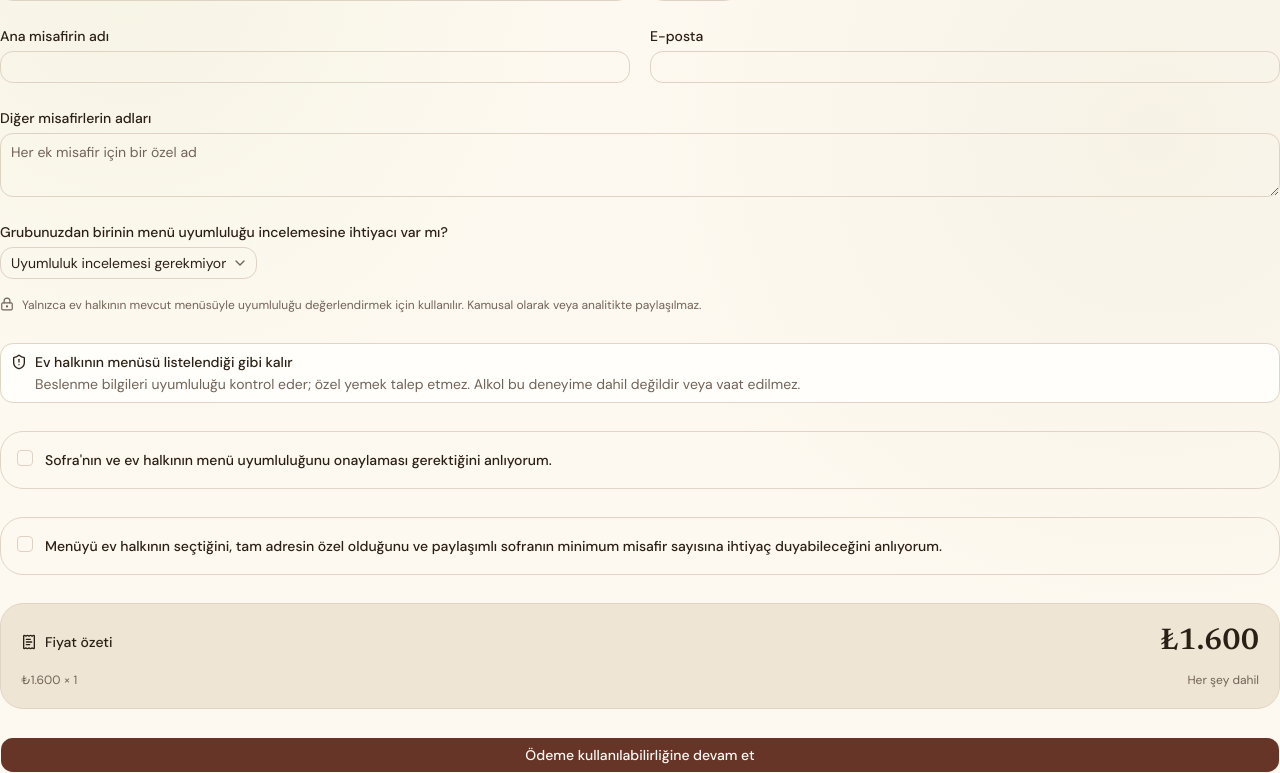
Test: guest price display › announces field-level validation in the selected locale
The width and height of the screenshot is (1280, 773).
(page scrolled)
Click the button "Ödeme kullanılabilirliğine devam et". click: (640, 755)
box: x1=0 y1=737 x2=1279 y2=772
(page scrolled)
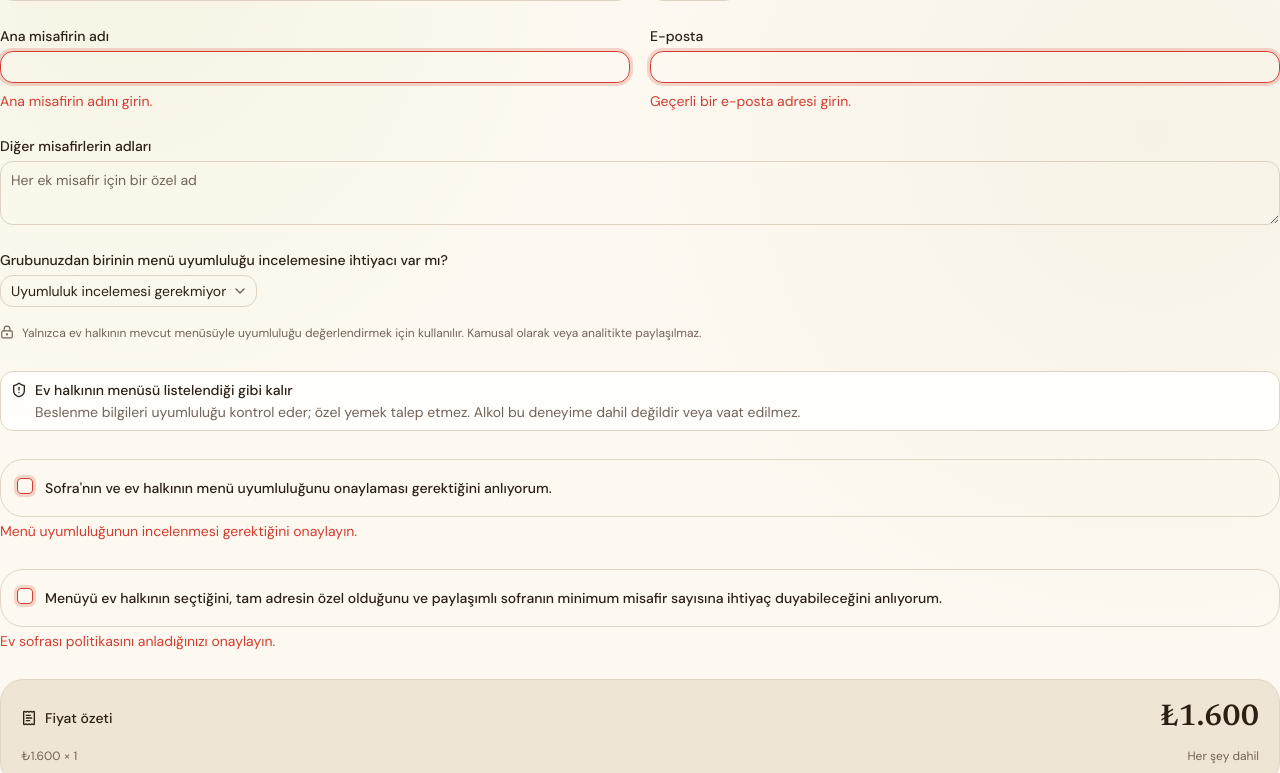
Result: the message "Ana misafirin adını girin." is shown at x1=0 y1=92 x2=152 y2=110
